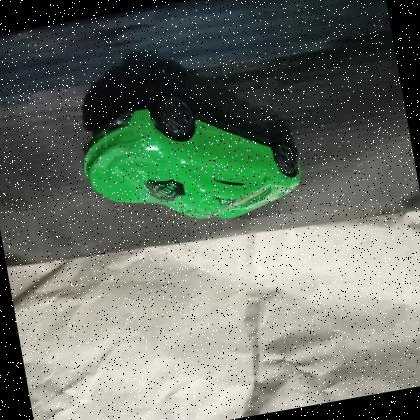Car: (66, 68, 318, 249)
